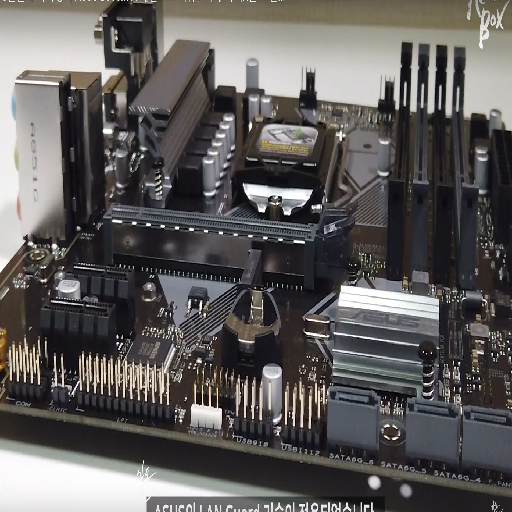CPU: (237, 117, 343, 217)
GPU: (104, 201, 358, 292)
MOTHERBOARD: (1, 73, 511, 496)
RAM: (385, 41, 479, 288)
SSD: (240, 248, 265, 292)
